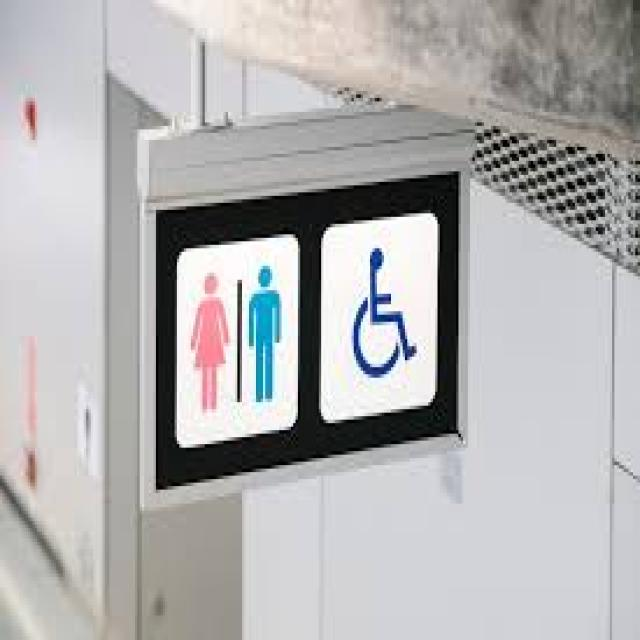toilet_icon: (182, 228, 428, 425)
